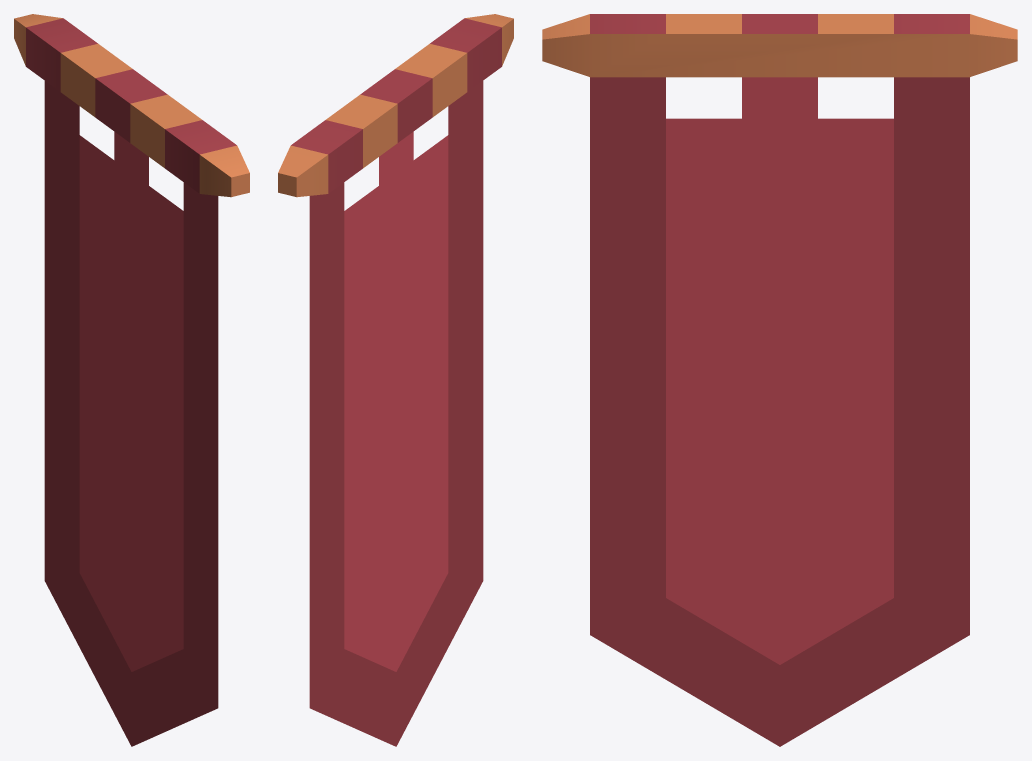
File: bannerRed.obj
3 renders of one model, left to right at view 1: azimuth 30°, elevation 25°; view 2: azimuth 150°, elevation 25°; view 3: azimuth 270°, elevation 25°, orthographic. The views are drawn at different scales.
Parts seen in each view (by area): view 1: bannerRed; view 2: bannerRed; view 3: bannerRed.
Part boxes in pixels (x1,y1,x2,y2): bannerRed: (14,14,249,746); bannerRed: (278,14,513,746); bannerRed: (542,14,1017,746).
Bounding box in the file's own units: 0.05 × 0.839 × 0.5.
